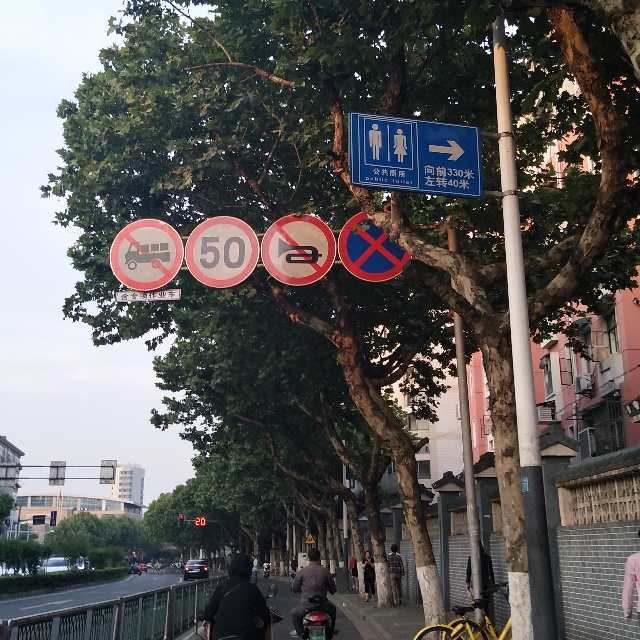nohonk: (261, 214, 336, 286)
stop: (338, 211, 412, 282)
